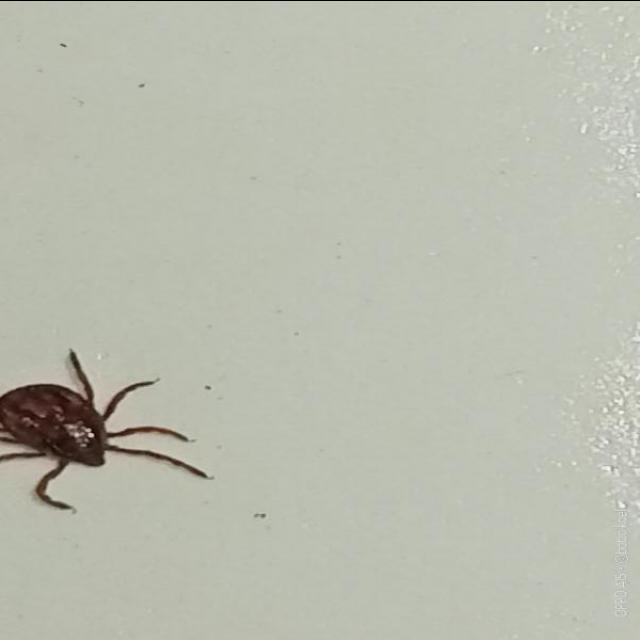Rhipicephalus Sanguineus-M: (0, 348, 216, 512)
